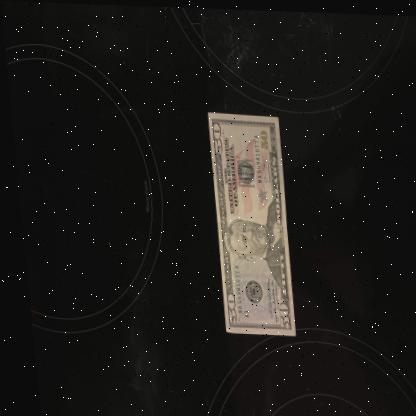fifty-front: (201, 108, 292, 334)
